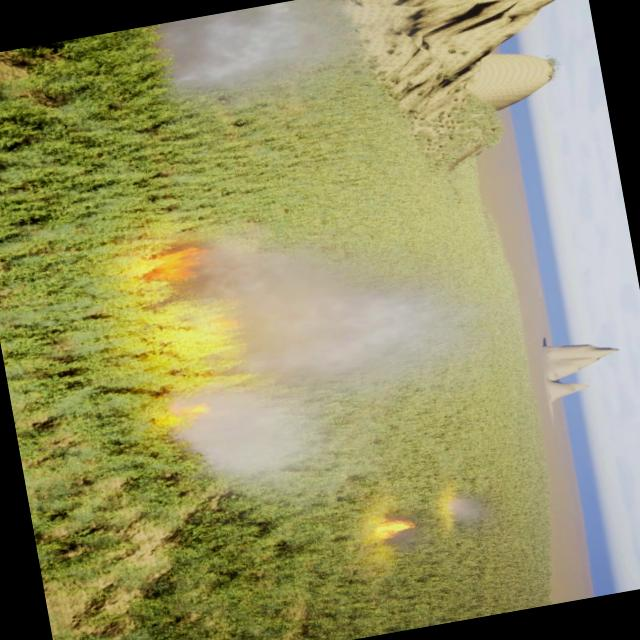fire: (126, 238, 224, 304), (174, 301, 258, 373), (166, 400, 212, 429), (377, 516, 417, 538)
smoke: (129, 182, 524, 530), (151, 0, 392, 115), (442, 489, 498, 532), (384, 528, 423, 557)
